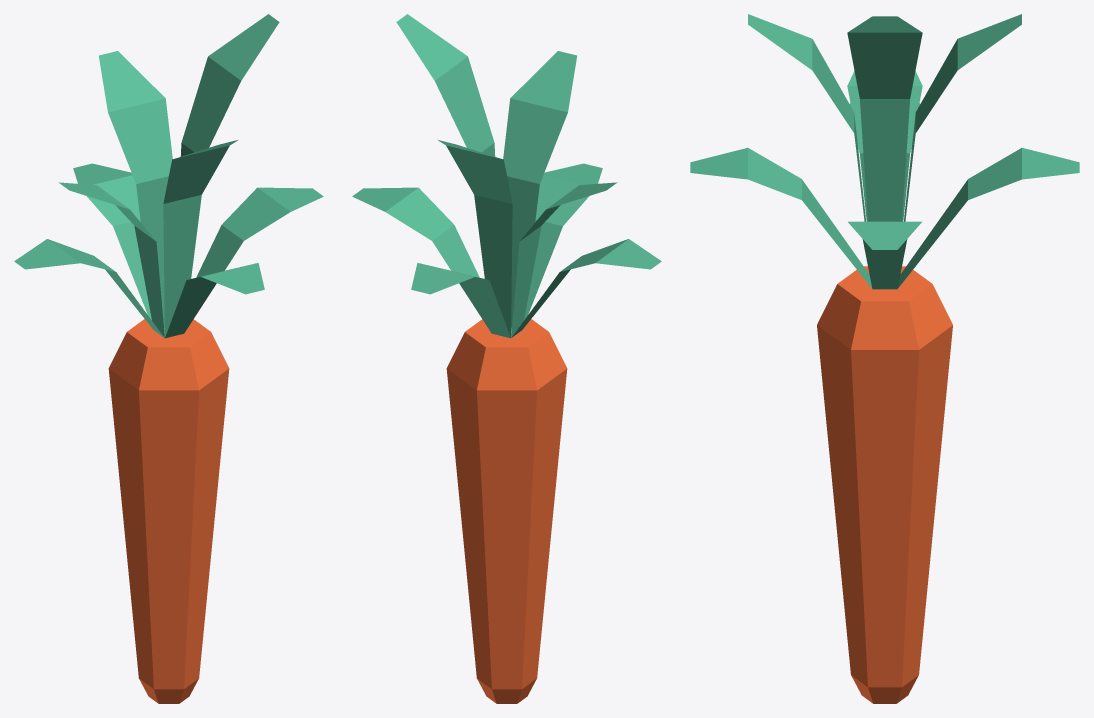
Rendered from carrot.fbx.
3 views of the same model, side by side, from view 1: azimuth 30°, elevation 25°; view 2: azimuth 150°, elevation 25°; view 3: azimuth 270°, elevation 25° (orthographic). The views are drawn at different scales.
Parts seen in each view (by area): view 1: carrot; view 2: carrot; view 3: carrot.
Part boxes in pixels (bbox=[...]): carrot: bbox=[14, 14, 323, 703]; carrot: bbox=[352, 14, 661, 703]; carrot: bbox=[690, 14, 1079, 703].
Size of the model in its own units: 3.43 by 7.16 by 3.43.
